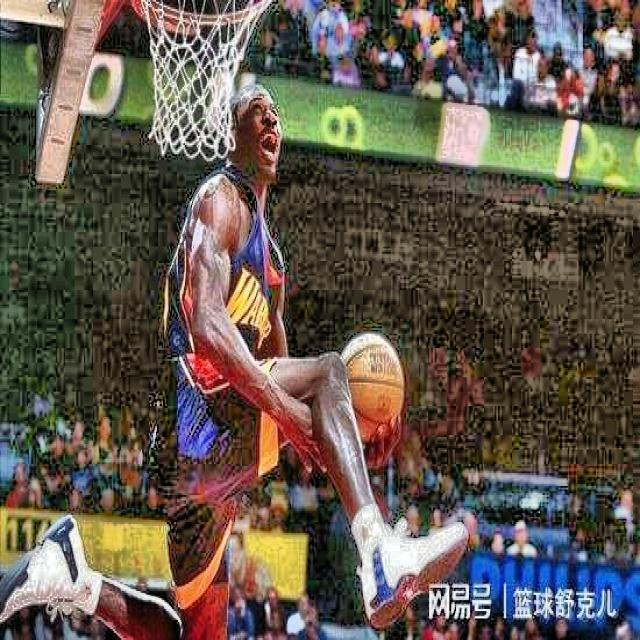board: (339, 331, 406, 434)
